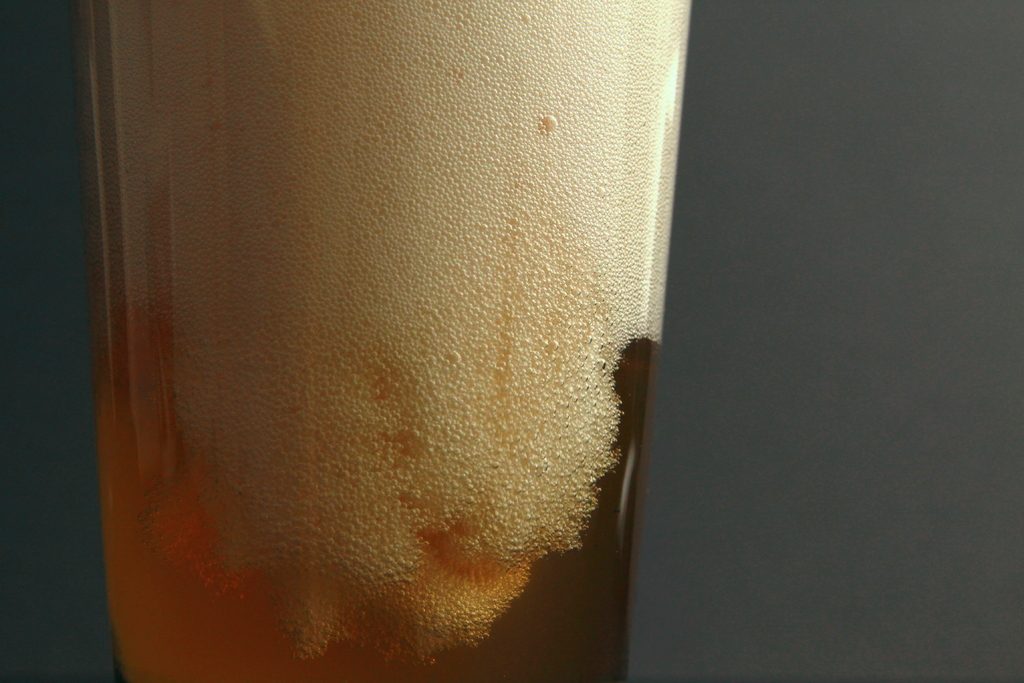Beer: (87, 2, 693, 682)
